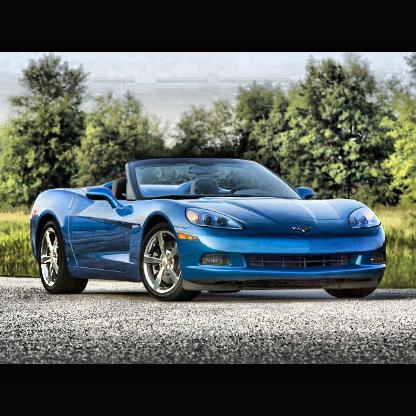Chevrolet Corvette Convertible 2012: (28, 153, 392, 306)
